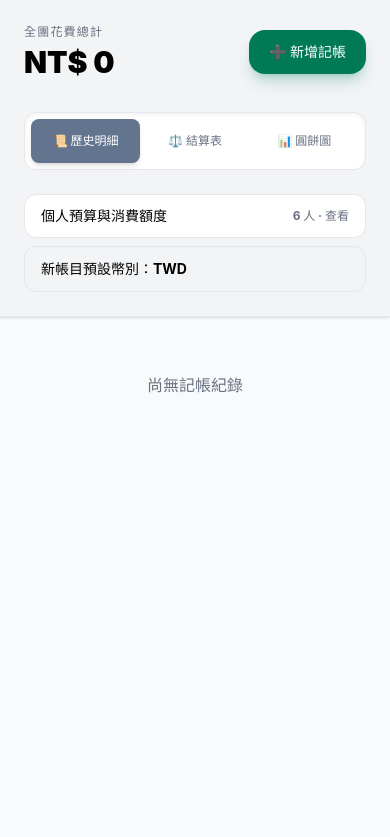
it: ExpenseSection › 六位旅伴預算預設收合，展開只呈現資料且不觸發預算寫入
Click the button with test id "budget-toggle".
click(104, 216)  # box [24,194,366,238]
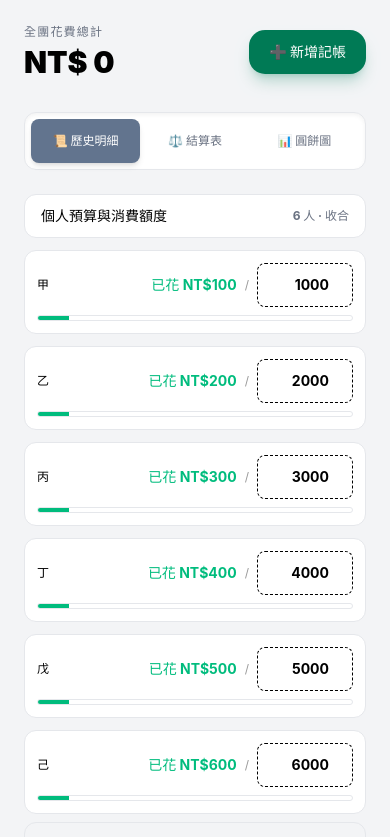
Expected: the number of elements with test id "member-budget-row" is 6, [24,250,366,334]; [24,346,366,430]; [24,442,366,526]; [24,538,366,622]; [24,634,366,718]; [24,730,366,814]
Expected: the number field named "己 個人預算（新台幣）" holds "6000", [257,743,353,787]
Click the button with test id "budget-toggle".
click(104, 216)  # box [24,194,366,238]
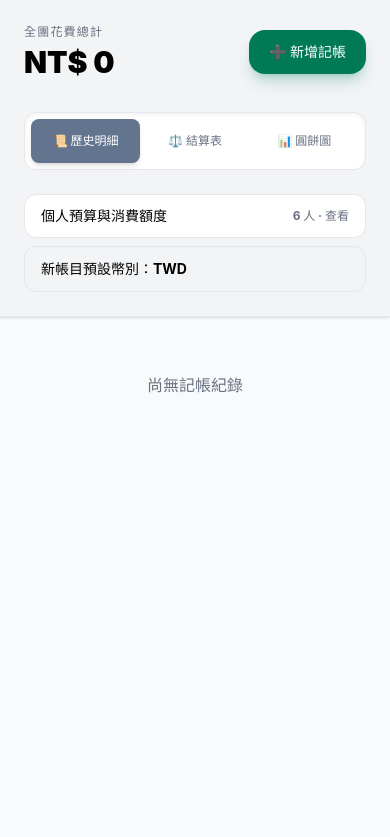
Expected: the element with test id "member-budget-row" is gone
